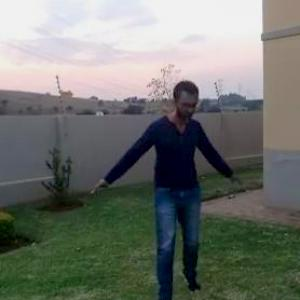land: (77, 68, 245, 299)
